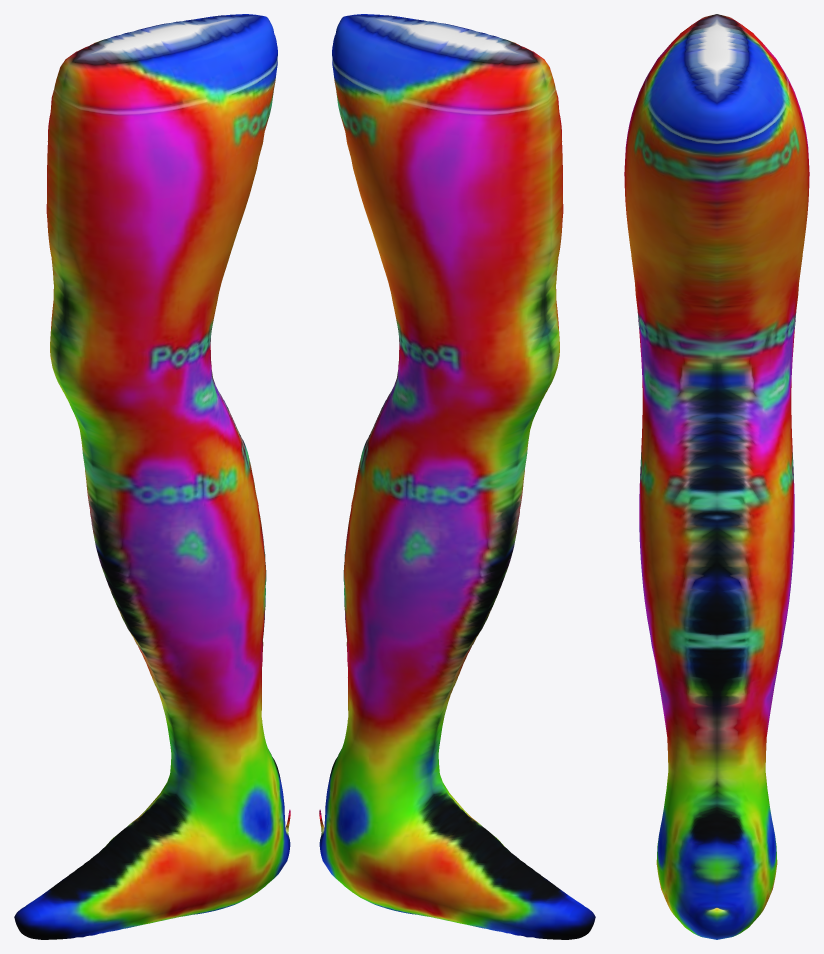
File: mm_project (2).glb
3 views of the same model, side by side, from view 1: azimuth 30°, elevation 25°; view 2: azimuth 150°, elevation 25°; view 3: azimuth 270°, elevation 25° (orthographic). The views are drawn at different scales.
Size of the model in its own units: 2.41 by 7.4 by 1.45.
1 material, 1 textured.
